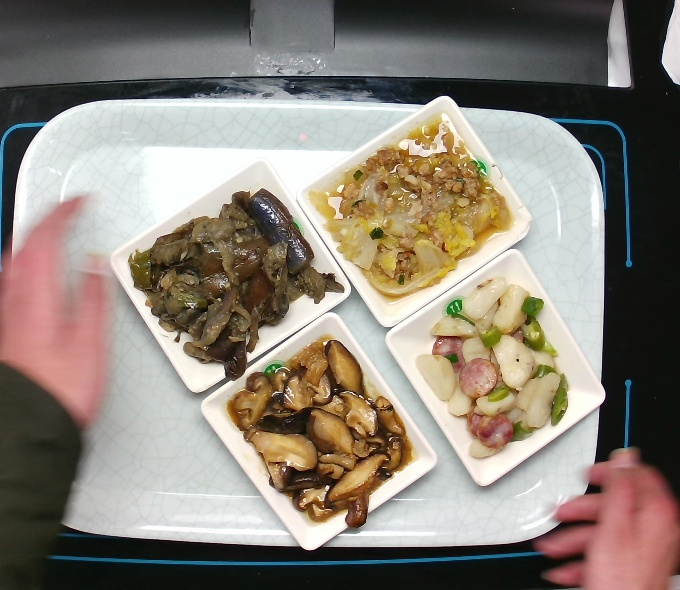wcq-MaTiGuo: (412, 276, 568, 462)
wcq-MoGu: (235, 340, 412, 534)
wcq-QieZi: (135, 184, 347, 369)
wcq-RouMoBaiCai: (322, 123, 506, 291)
